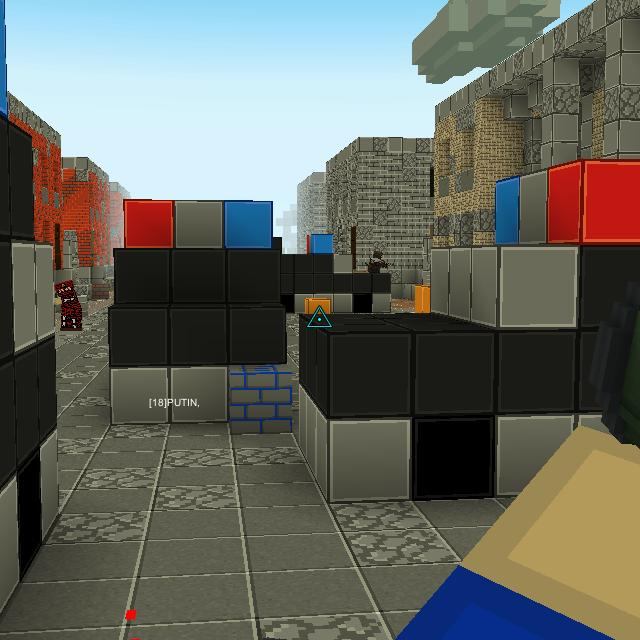enemy: (53, 280, 84, 332), (366, 250, 389, 273)
